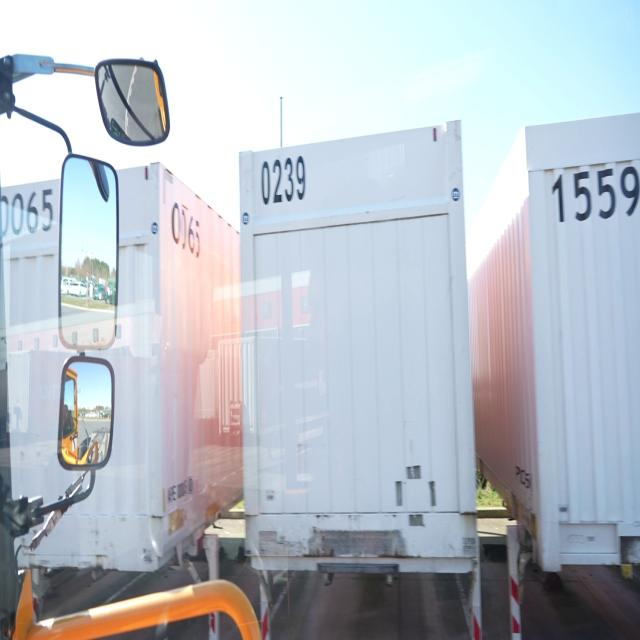Code: (545, 159, 640, 221), (255, 150, 311, 211)
